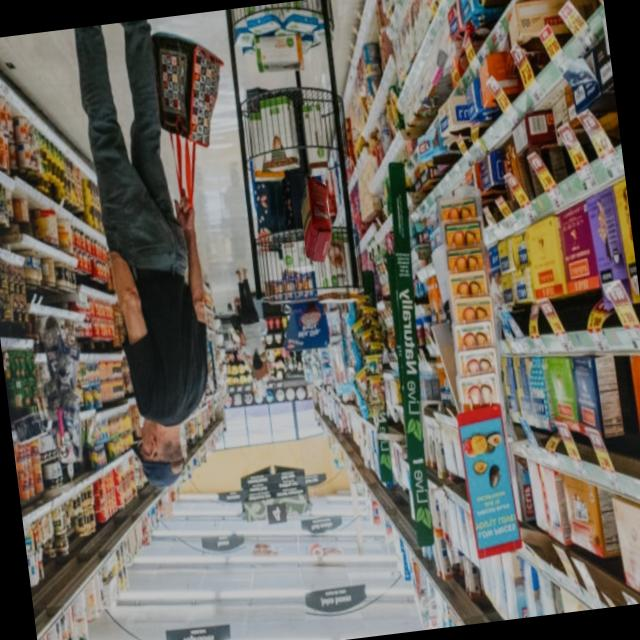mate bag: (292, 175, 337, 264)
